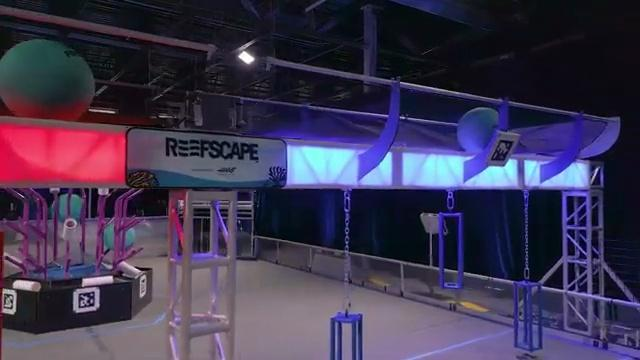ALGAE: (0, 37, 95, 120), (456, 107, 502, 153)
